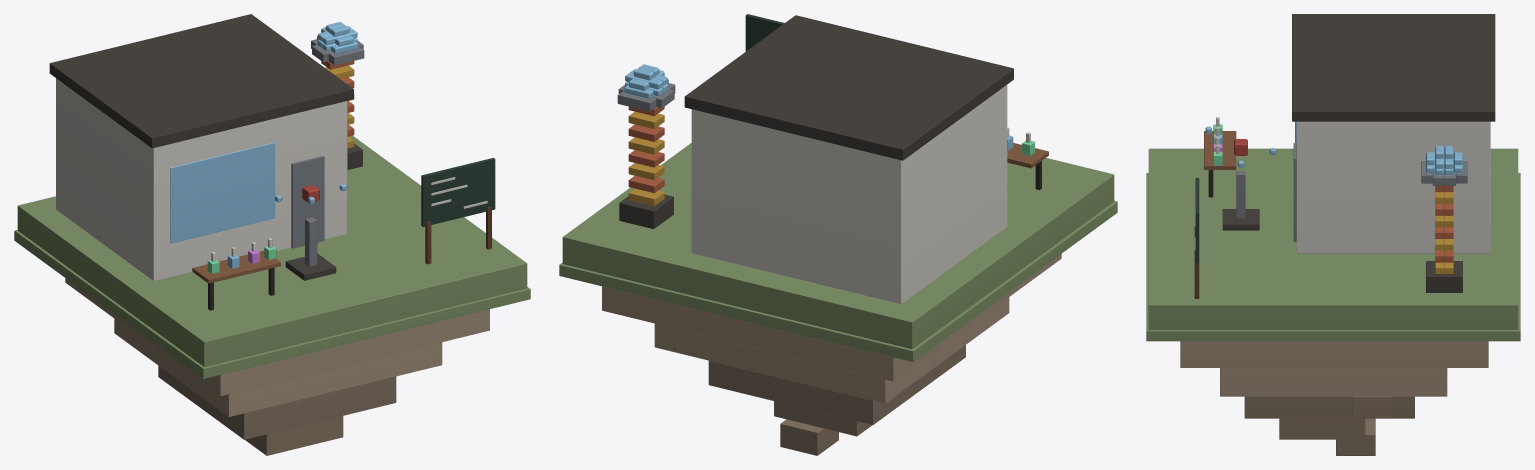
The model's file is region_19.glb.
3 renders of one model, left to right at view 1: azimuth 30°, elevation 25°; view 2: azimuth 150°, elevation 25°; view 3: azimuth 270°, elevation 25°, orthographic. The views are drawn at different scales.
Parts seen in each view (by area): view 1: region_19_static, region_19_glow, region_19_orb; view 2: region_19_static, region_19_orb; view 3: region_19_static, region_19_orb, region_19_atom.
Part boxes in pixels (<box>): region_19_static: <box>14,14,530,455</box>; region_19_glow: <box>170,142,276,273</box>; region_19_orb: <box>317,22,358,53</box>; region_19_static: <box>559,14,1117,455</box>; region_19_orb: <box>624,64,668,98</box>; region_19_static: <box>1146,14,1520,455</box>; region_19_orb: <box>1426,146,1462,175</box>; region_19_atom: <box>1205,126,1276,167</box>.
Size of the model in its own units: 8.1 by 8.55 by 8.1.
